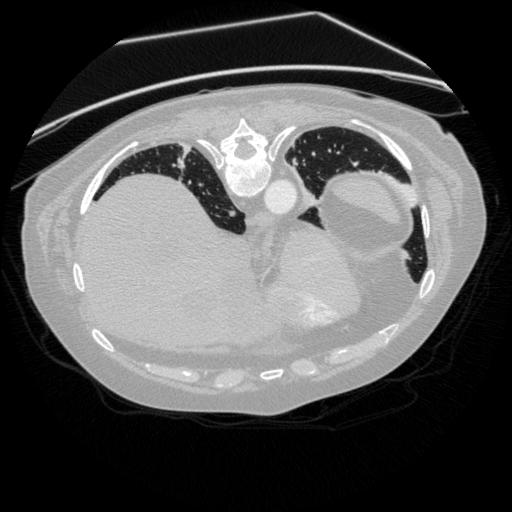nodule: (225, 208, 238, 221)
